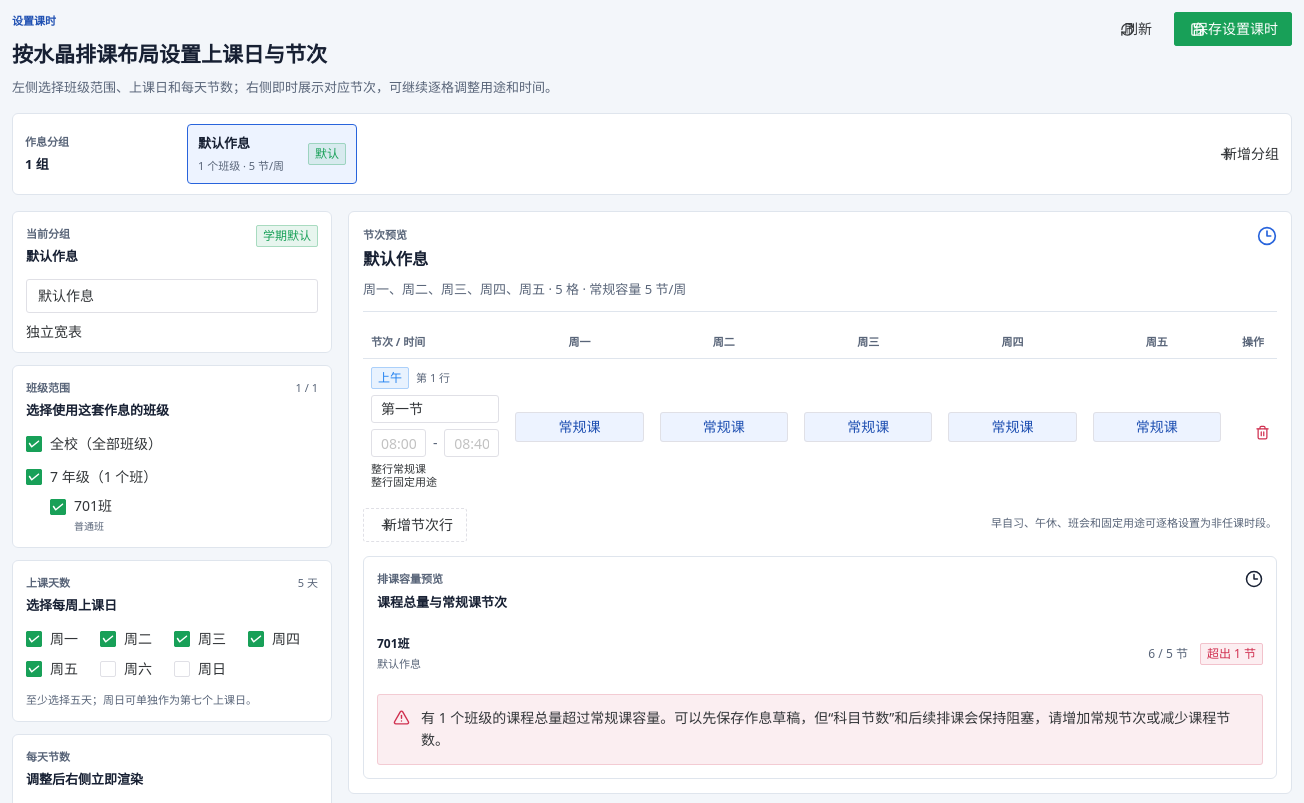
PeriodSetupWorkspace › 在分组工作台内阻止结束时间早于开始时间
The image size is (1304, 803).
Step 1. Type "09:00" into the field with placeholder "08:00" → (399, 443), box 381,429 -> 416,457
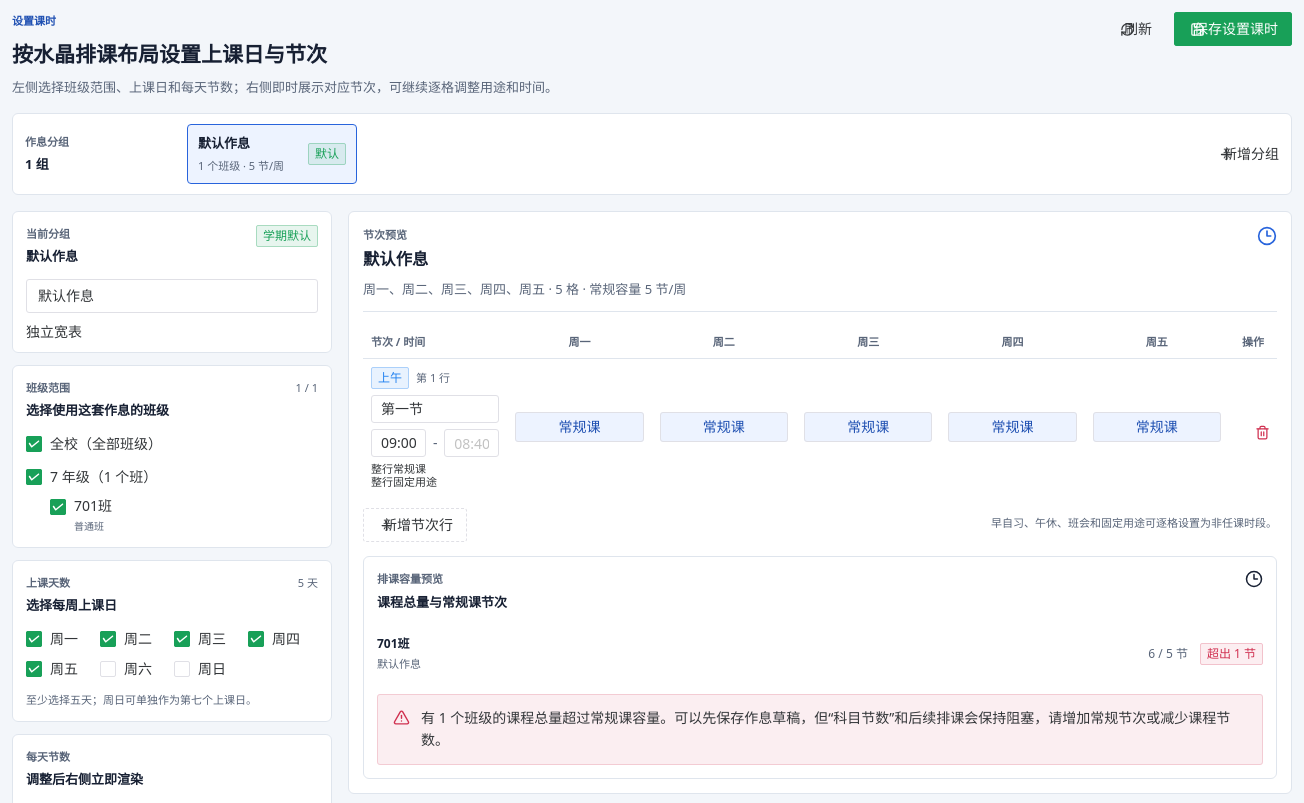
Step 2. Type "08:00" into the field with placeholder "08:40" → (472, 443), box 454,429 -> 489,457
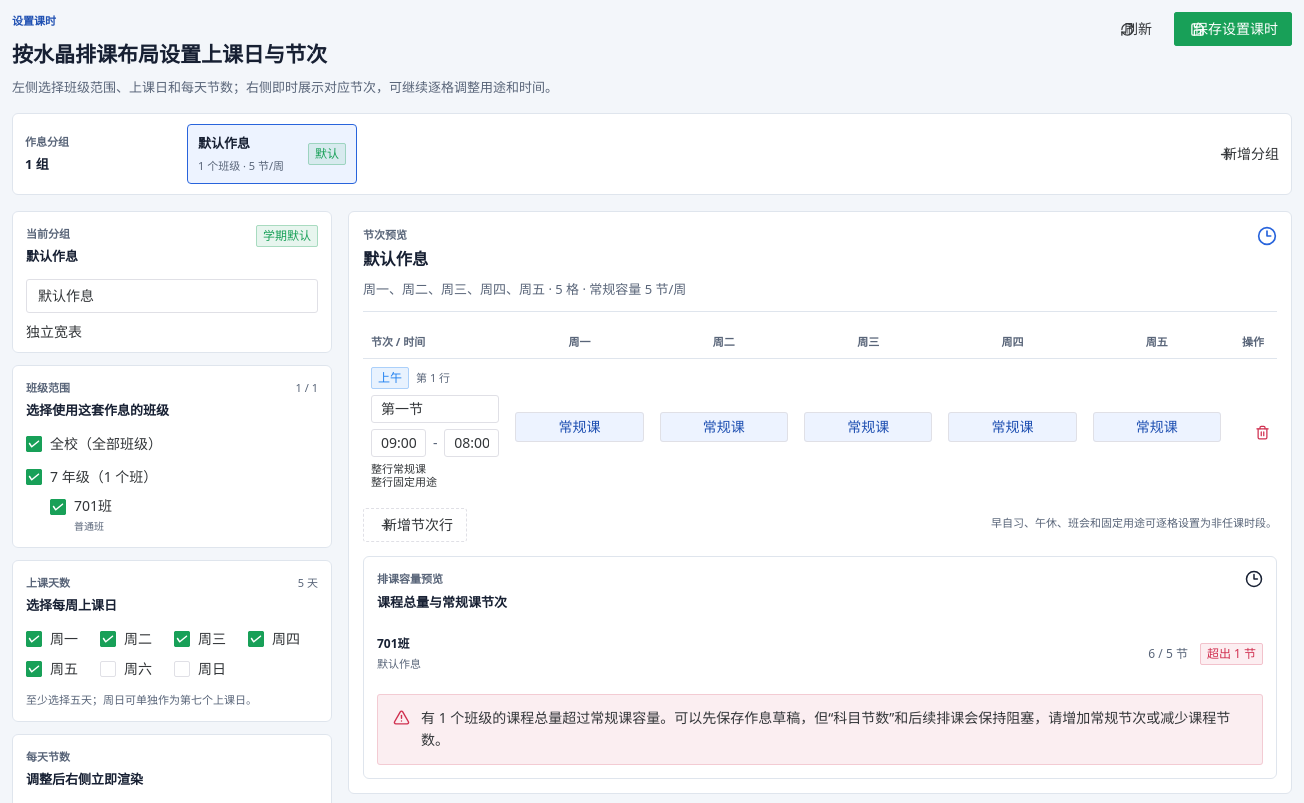
Step 3. Click the button with test id "period-setup-save" → (1233, 29), box 1174,12 -> 1292,46
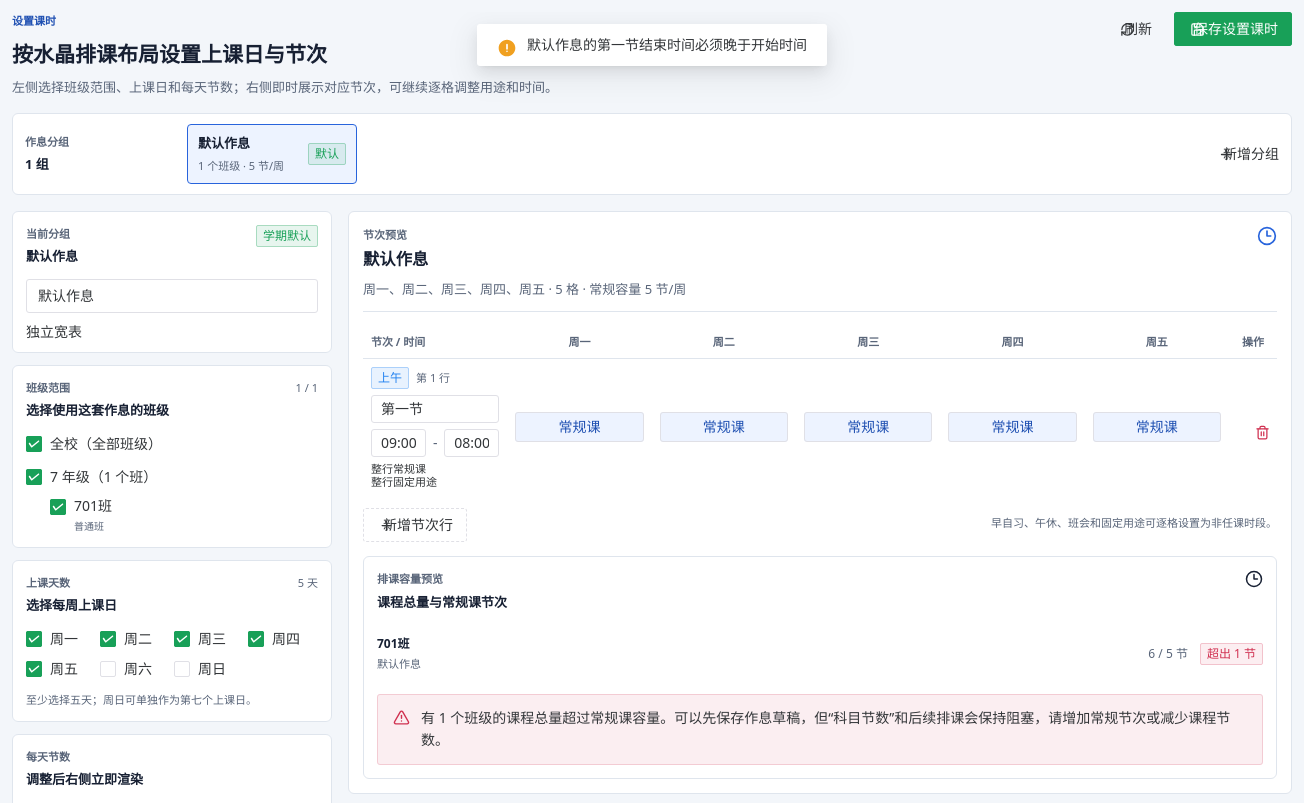
Expected: the text "结束时间必须晚于开始时间" is shown, 527,35 -> 807,54
